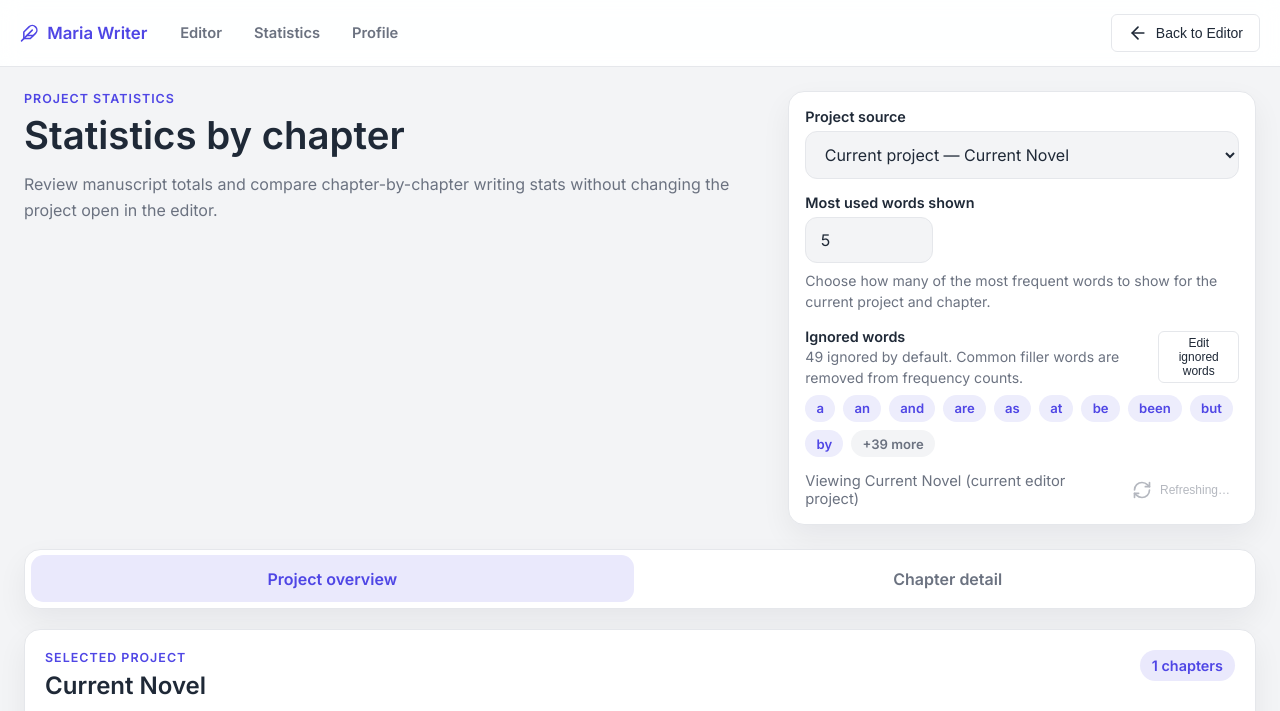
Scenario: ProjectStatisticsPage › lets the user change how many frequent words are shown
The width and height of the screenshot is (1280, 711).
Replace the text in the number field labelled "Most used words shown" with "3" at (869, 240), box [805,217,933,263]
(page scrolled)
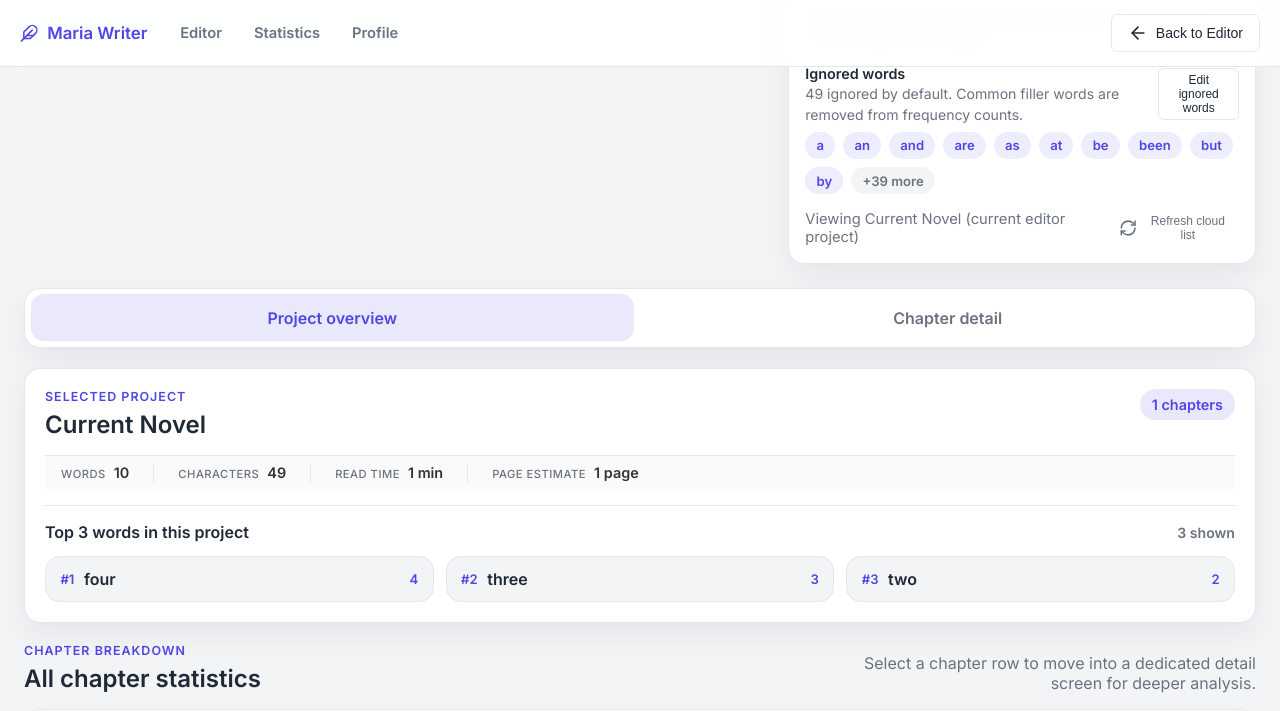
Check: the text "four" is shown, box [84,569,116,589]
Check: the heading "Top 3 words in this project" is shown, box [45,522,249,542]
